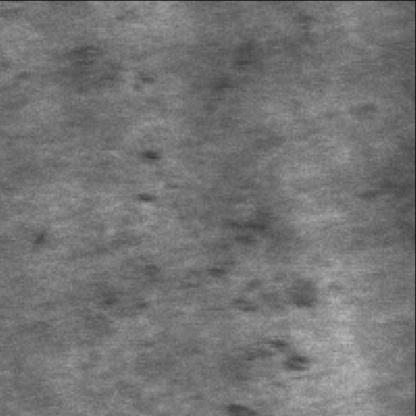rolled-in_scale: (168, 136, 320, 372), (58, 35, 270, 110)
